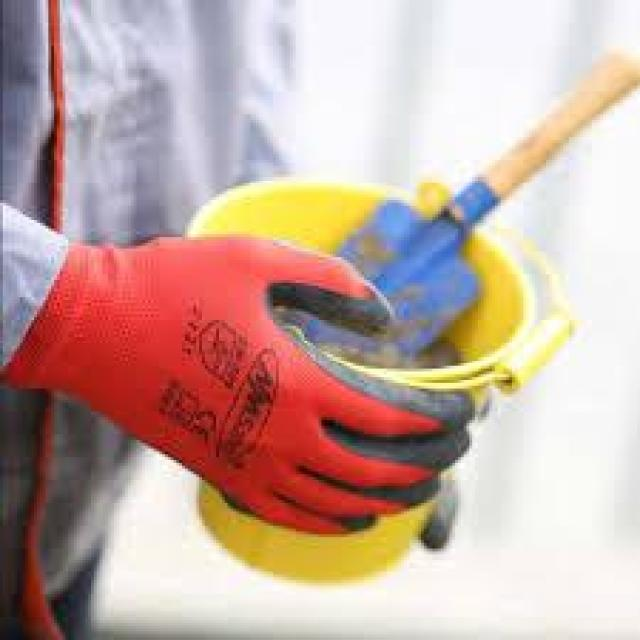Gloves: (19, 218, 476, 536)
